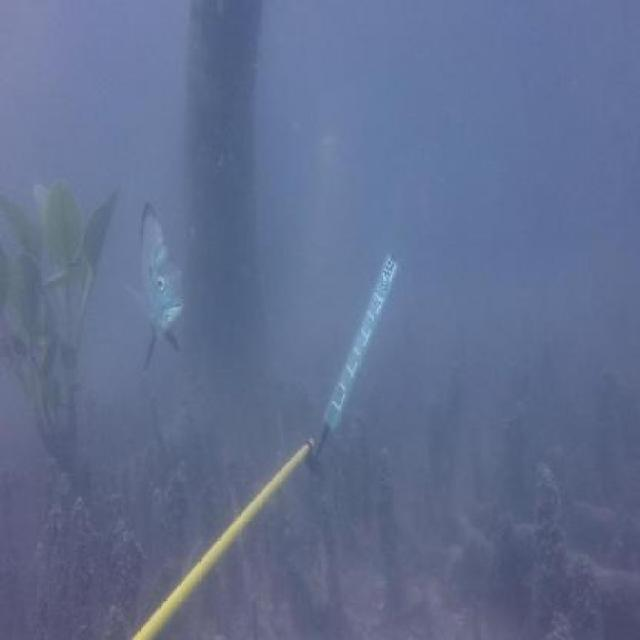acanthopagrus_palmaris: (125, 192, 188, 382)
